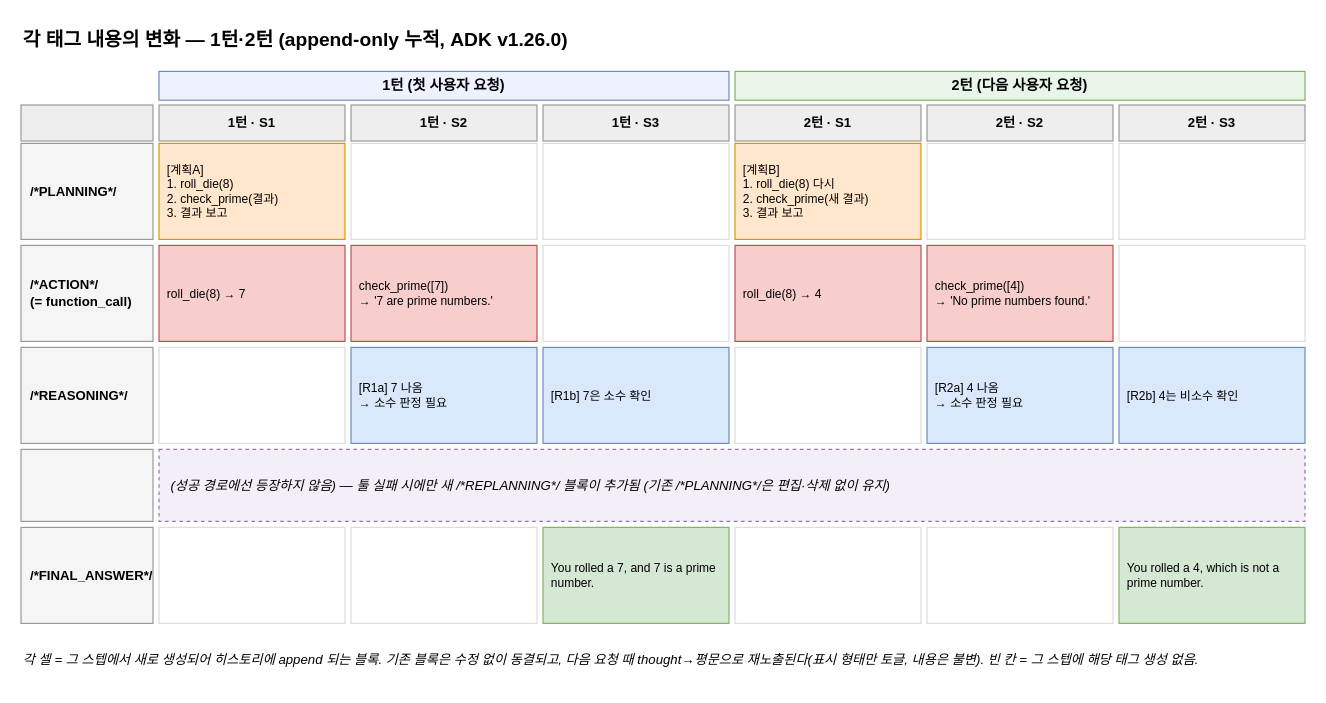
Image size: 1326x703. Some labels were removed from this diagram. Here are the shapes that lost their labels. From the top down, the centre of each, then its label:
(86,122): 태그 \ 스텝
(86,484): /*REPLANNING*/
